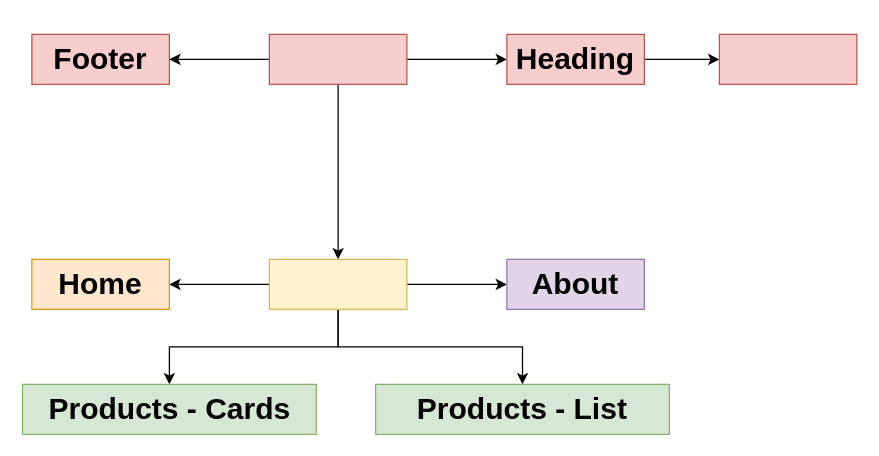
Image size: 879x456. Some labels were removed from this diagram. The centre of each missing label's shape, as x and y in pixels:
"App" belongs at (337,58).
"Navbar" belongs at (787,58).
"Routes" belongs at (337,283).
